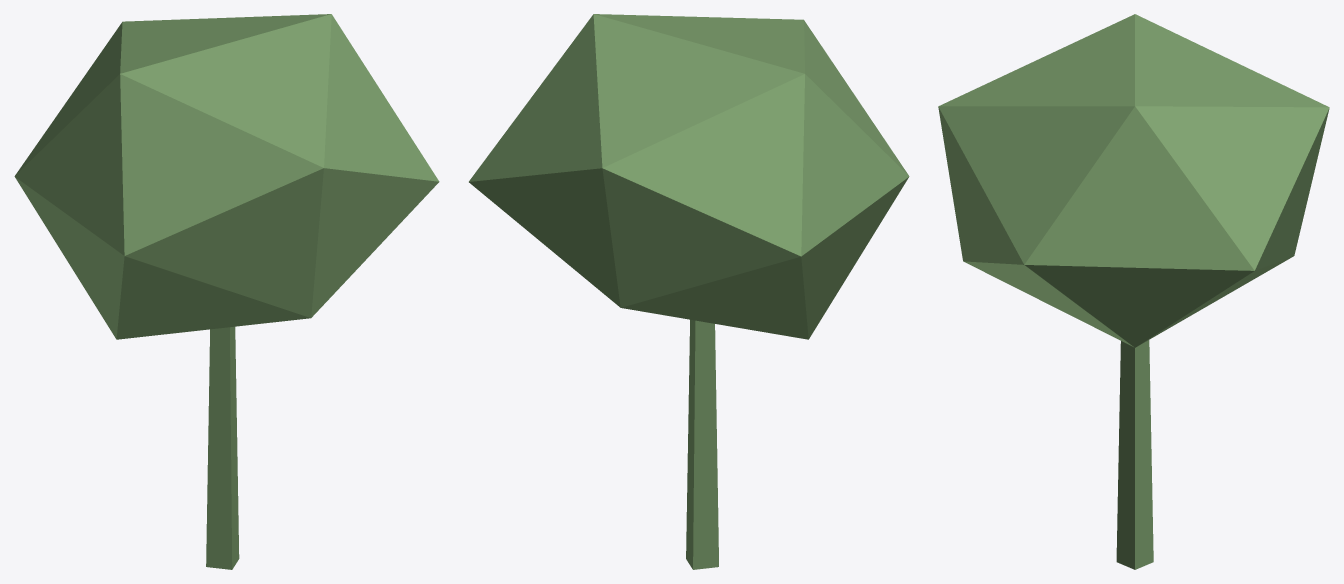
The model's file is xinyi_reference_original.glb.
3 renders of one model, left to right at view 1: azimuth 30°, elevation 25°; view 2: azimuth 150°, elevation 25°; view 3: azimuth 270°, elevation 25°, orthographic. The views are drawn at different scales.
Visible parts, largest first — view 1: SM_XinyiTree; view 2: SM_XinyiTree; view 3: SM_XinyiTree.
Part boxes in pixels (x1,y1,x2,y2): SM_XinyiTree: [14, 14, 439, 569]; SM_XinyiTree: [469, 14, 909, 569]; SM_XinyiTree: [938, 14, 1329, 569].
Size of the model in its own units: 5.51 by 8.44 by 5.9.
